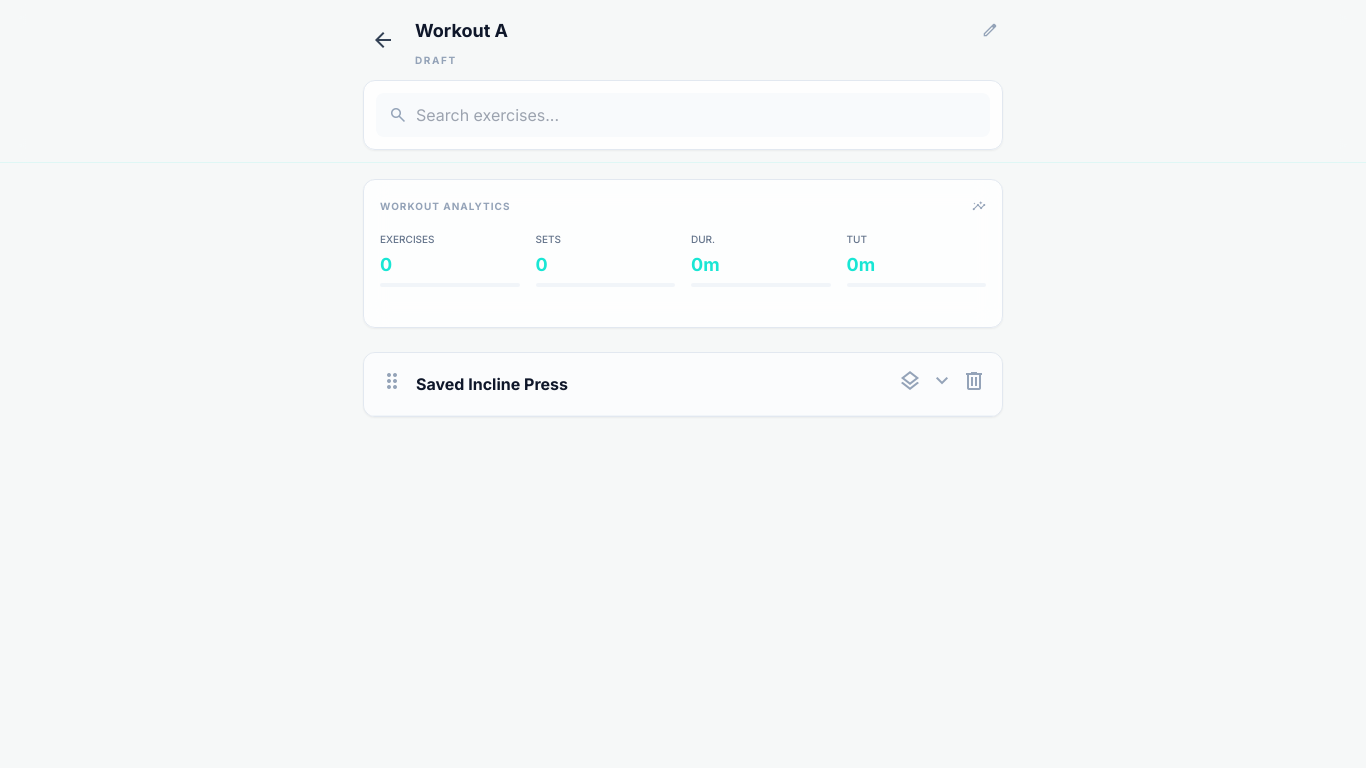
Scenario: ManualWorkoutEditor exercise search › shows generic empty state when no pool items or excluded matches exist
Type "notreal" into the field with placeholder "Search exercises..." at (683,115), box [376,93,990,137]
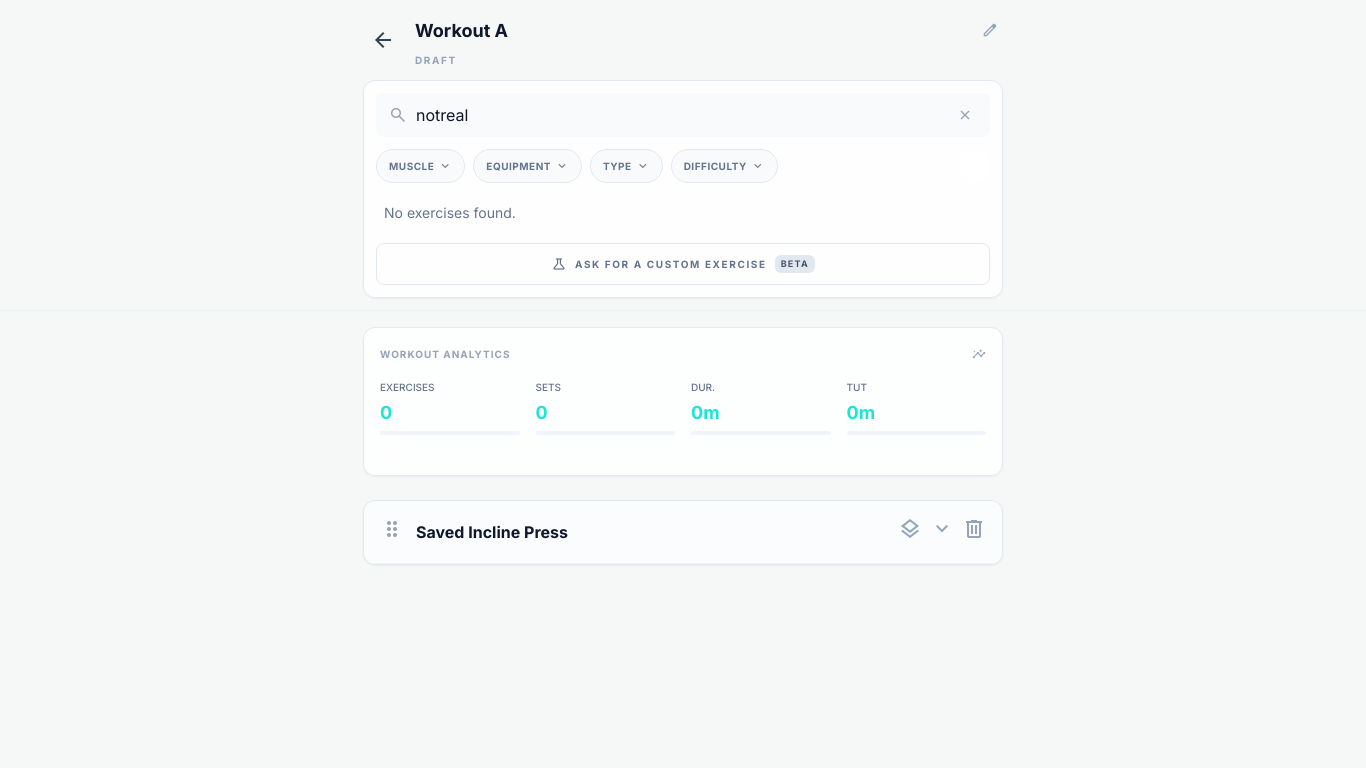
Expected: the text "No exercises found." is shown, [384,204,516,221]
